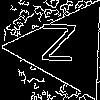Z: (40, 24, 77, 71)
